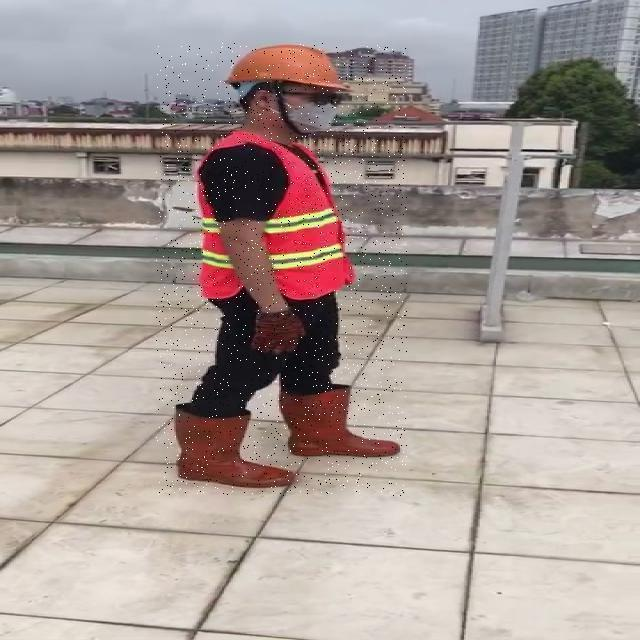gloves: (250, 310, 305, 356)
goggles: (281, 92, 344, 105)
helmet: (221, 43, 354, 92)
safety_vest: (199, 133, 349, 299)
